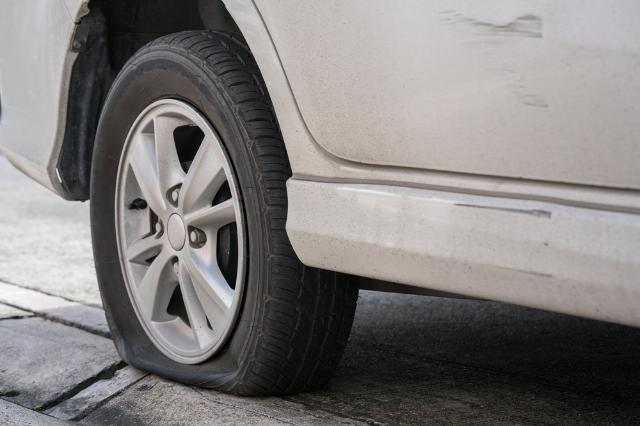scratch: (443, 8, 558, 115), (457, 206, 552, 221)
tire flat: (89, 28, 359, 398)
